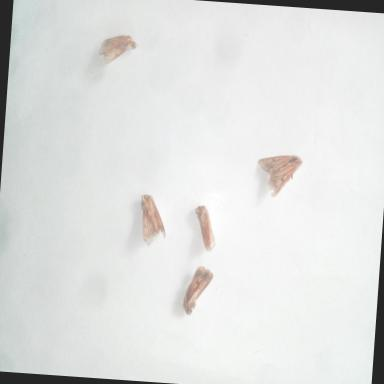abw: (253, 148, 305, 201), (93, 26, 143, 70), (179, 260, 216, 318), (136, 189, 170, 251), (190, 200, 220, 255)
